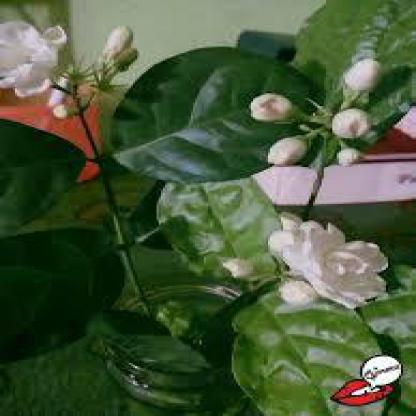Melati: (235, 49, 393, 192), (190, 219, 402, 316), (1, 11, 138, 131)
